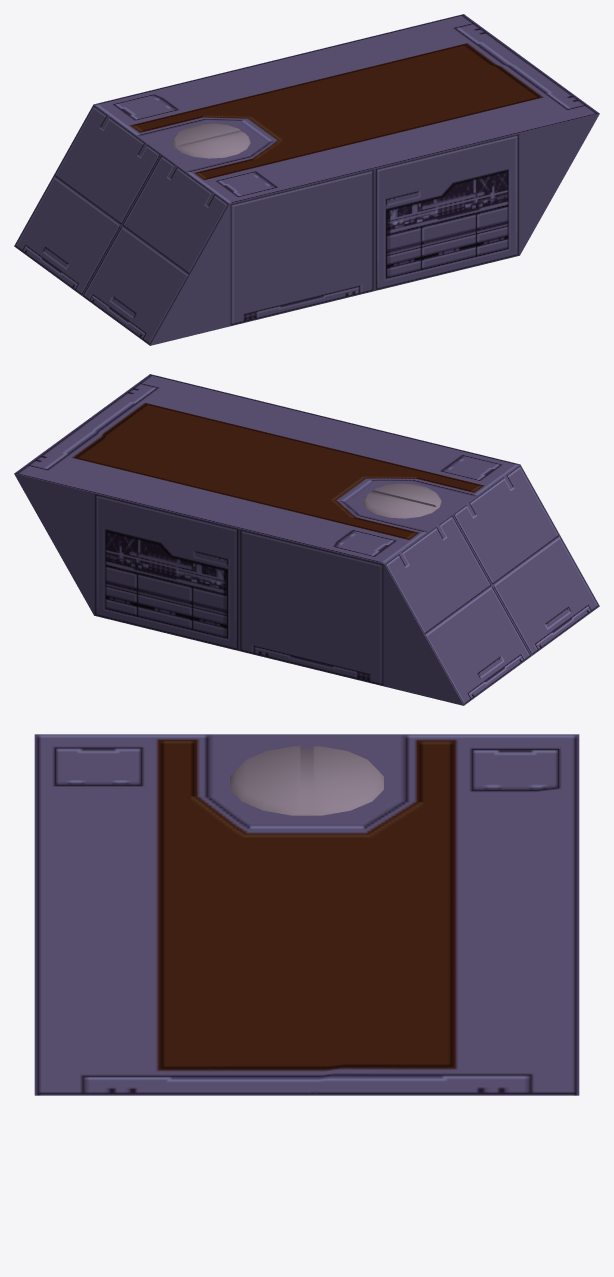
The picture shows the model from 3 angles, top to bottom: view 1: azimuth 30°, elevation 25°; view 2: azimuth 150°, elevation 25°; view 3: azimuth 270°, elevation 25°; orthographic projection. The views are drawn at different scales.
Parts seen in each view (by area): view 1: Joint_0_Object_0, Joint_0_Object_1; view 2: Joint_0_Object_0, Joint_0_Object_1; view 3: Joint_0_Object_0, Joint_0_Object_1.
Boxes of the visible parts, x1,y1,x2,y2 form: Joint_0_Object_0: (14, 14, 599, 345); Joint_0_Object_1: (172, 123, 250, 158); Joint_0_Object_0: (14, 374, 599, 705); Joint_0_Object_1: (363, 483, 441, 518); Joint_0_Object_0: (34, 734, 579, 1095); Joint_0_Object_1: (230, 746, 383, 815).
Size of the model in its own units: 1217 by 325 by 638.
2 materials, 2 textured.
